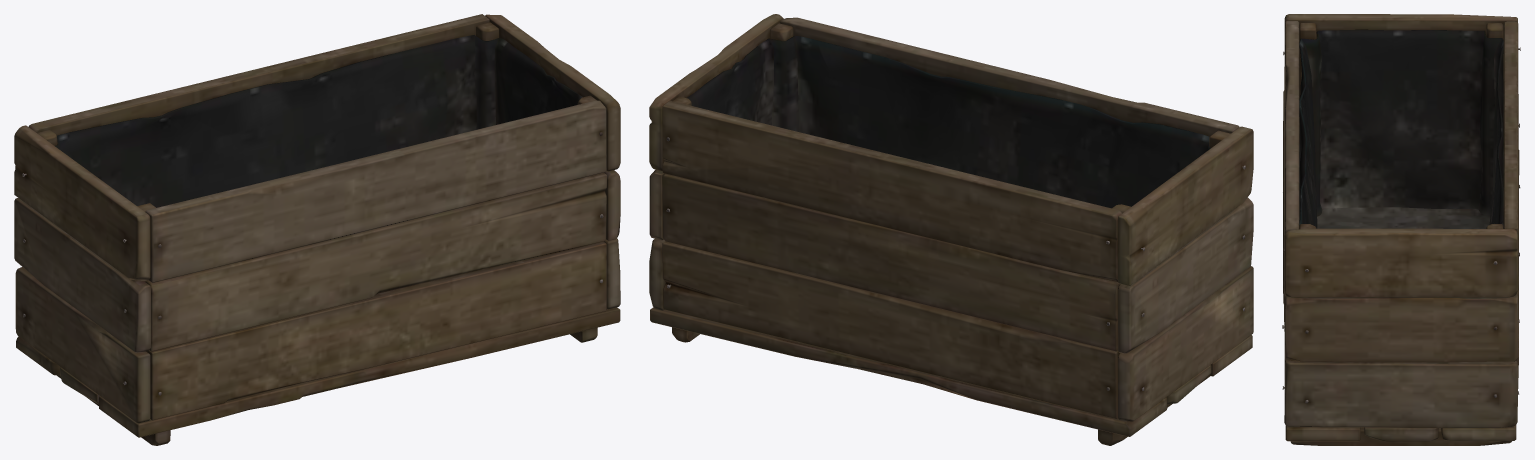
Rendered from planter_box_01.glb.
3 views of the same model, side by side, from view 1: azimuth 30°, elevation 25°; view 2: azimuth 150°, elevation 25°; view 3: azimuth 270°, elevation 25° (orthographic). The views are drawn at different scales.
Parts seen in each view (by area): view 1: planter_box_01; view 2: planter_box_01; view 3: planter_box_01.
Part boxes in pixels (bbox=[...]): planter_box_01: bbox=[14, 14, 620, 445]; planter_box_01: bbox=[649, 14, 1253, 445]; planter_box_01: bbox=[1282, 14, 1520, 445].
Bounding box in the file's own units: 0.9126 × 0.4249 × 0.4137.
1 material, 1 textured.
